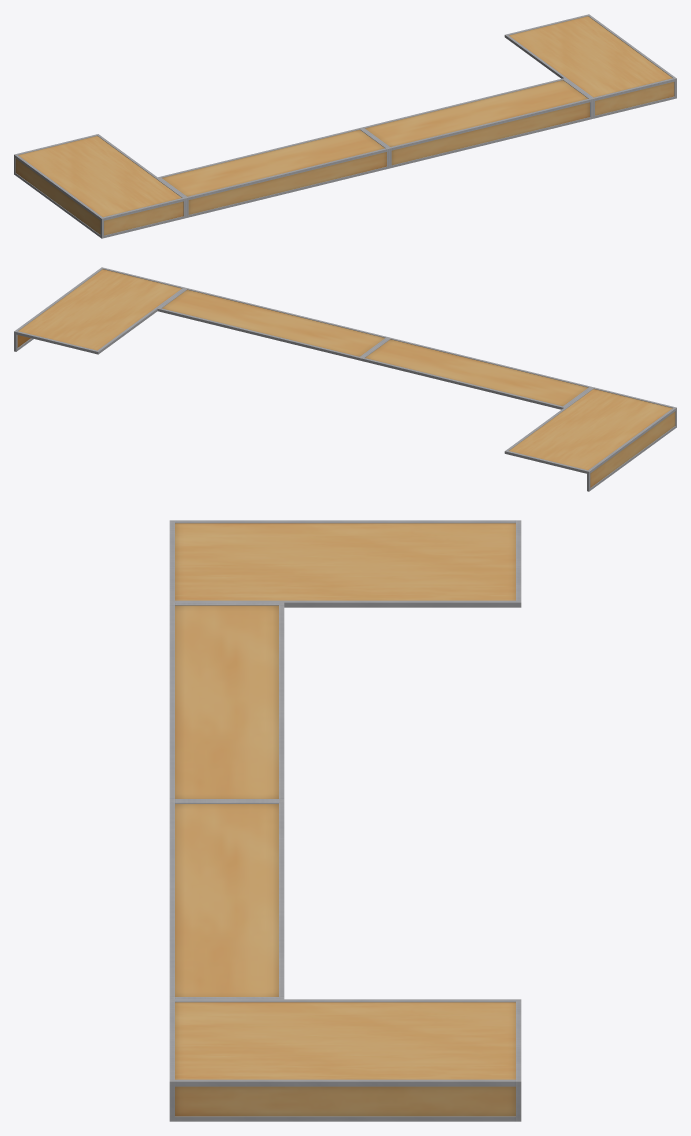
File: jsf_2P_s04_c05_t03_DX.fbx
3 renders of one model, top to bottom at view 1: azimuth 30°, elevation 25°; view 2: azimuth 150°, elevation 25°; view 3: azimuth 270°, elevation 25°, orthographic. The views are drawn at different scales.
Parts seen in each view (by area): view 1: jsf_2P_s04_c05_t03_DX; view 2: jsf_2P_s04_c05_t03_DX; view 3: jsf_2P_s04_c05_t03_DX.
Part boxes in pixels (x1,y1,x2,y2): jsf_2P_s04_c05_t03_DX: [14, 14, 676, 238]; jsf_2P_s04_c05_t03_DX: [14, 267, 676, 491]; jsf_2P_s04_c05_t03_DX: [169, 520, 521, 1121].
Bounding box in the file's own units: 378 × 12.51 × 100.
